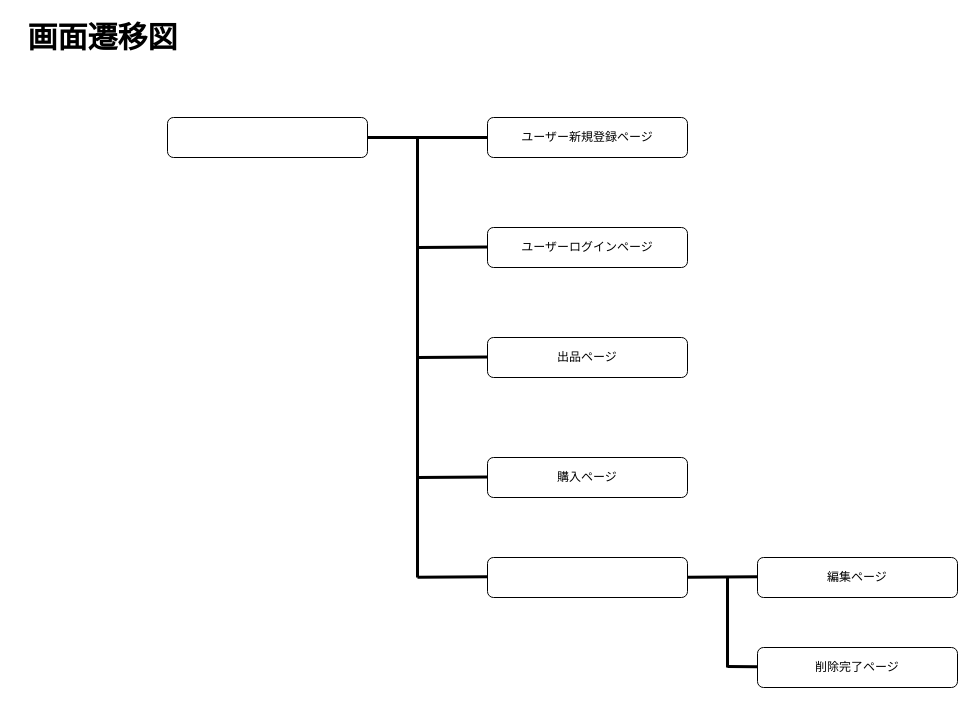
Image size: 975x705. Some labels were removed from this diagram. Here are the shapes that lost their labels. From the top down, the box of each, then its label:
(166, 116, 368, 158): トップページ
(486, 556, 688, 598): 商品詳細ページ
